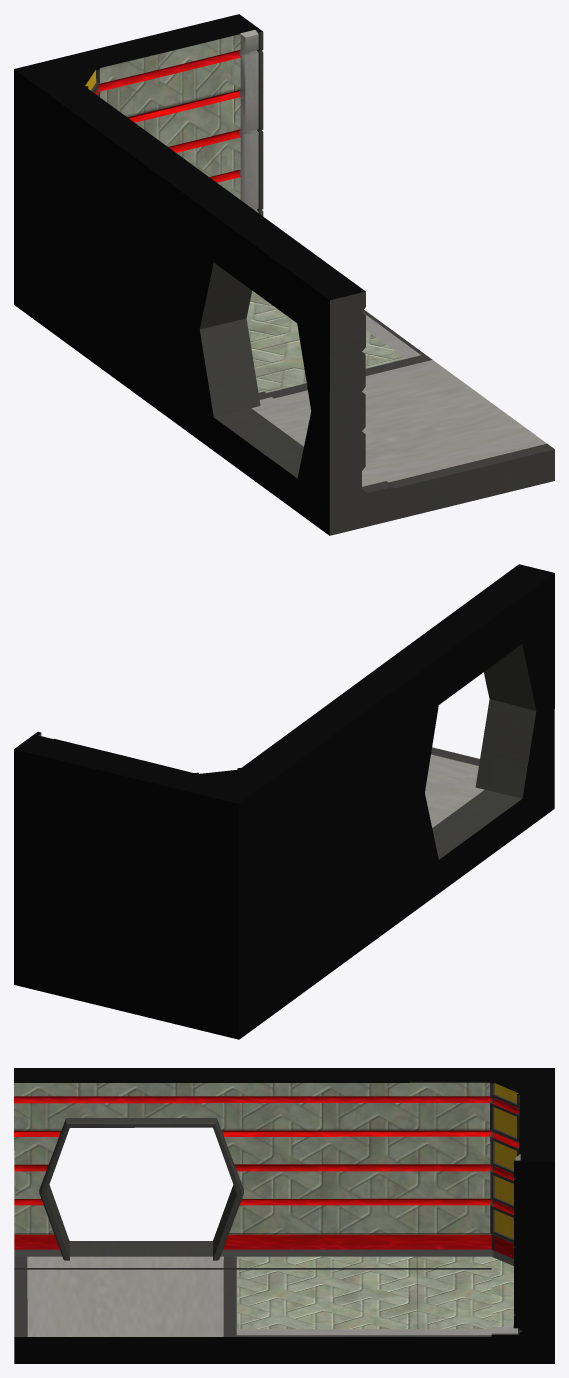
The model's file is FloorDoor.fbx.
3 renders of one model, top to bottom at view 1: azimuth 30°, elevation 25°; view 2: azimuth 150°, elevation 25°; view 3: azimuth 270°, elevation 25°, orthographic. The views are drawn at different scales.
Visible parts, largest first — view 1: FloorDoor; view 2: FloorDoor; view 3: FloorDoor.
Boxes of the visible parts, x1,y1,x2,y2 form: FloorDoor: (14,14,554,535); FloorDoor: (14,564,554,1039); FloorDoor: (14,1068,554,1363).
Size of the model in its own units: 7 by 7 by 17.
1 material, 1 textured.
